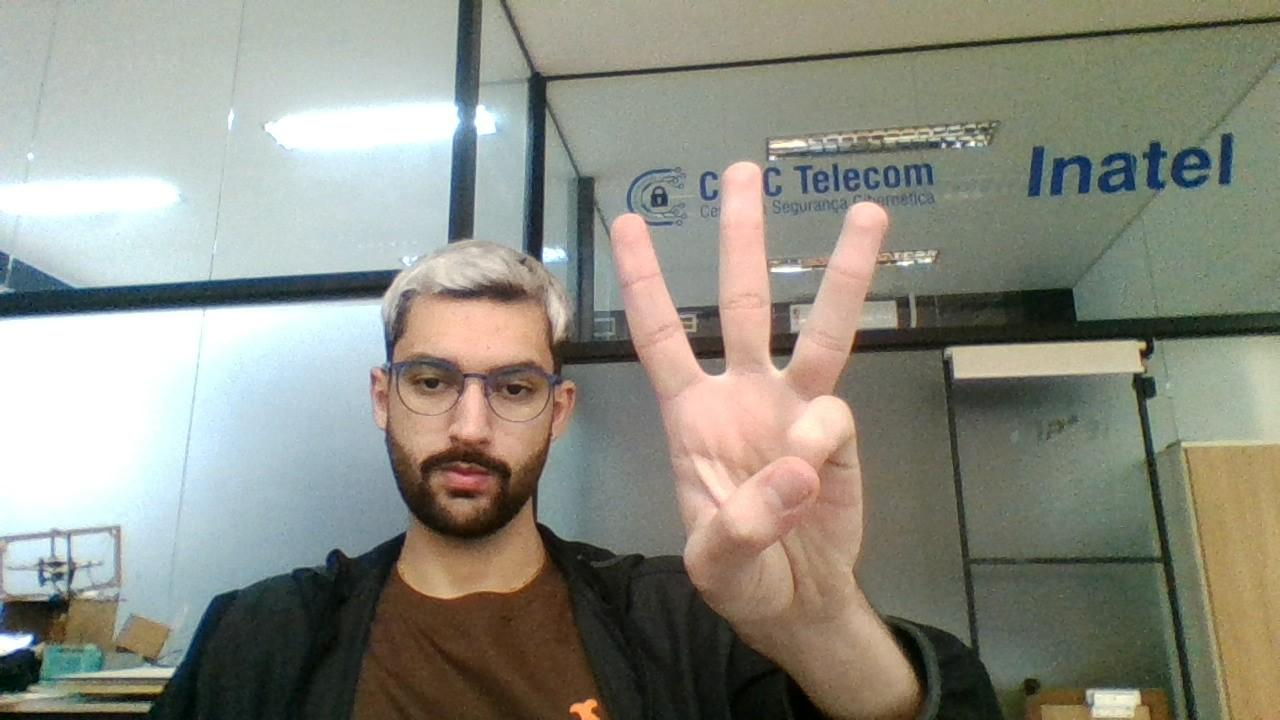W: (608, 162, 902, 644)
